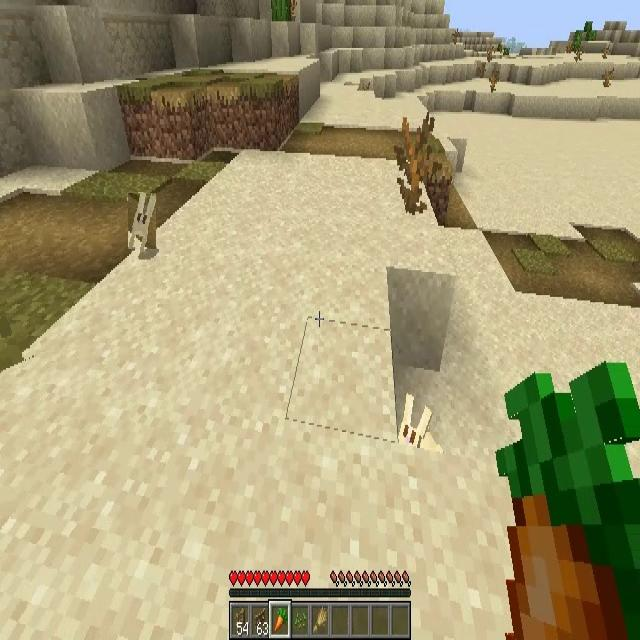rabbit: (396, 388, 442, 458), (128, 193, 156, 249)
